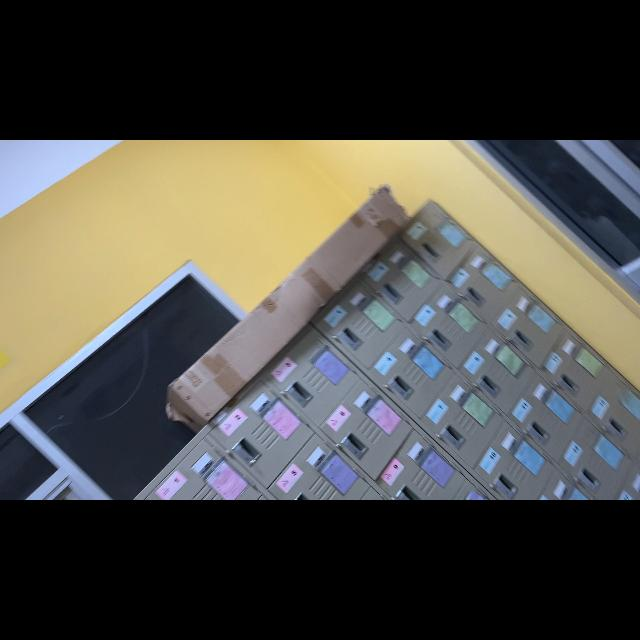cardboard_box: (162, 179, 416, 433)
